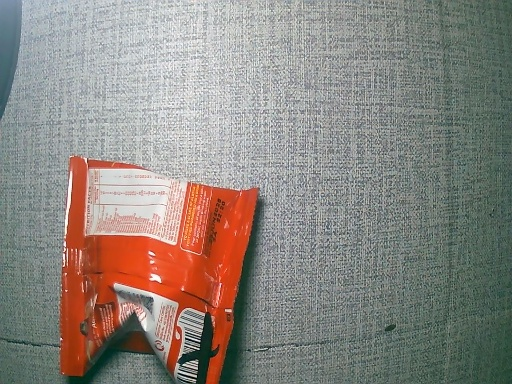plastic: (58, 156, 267, 384)
